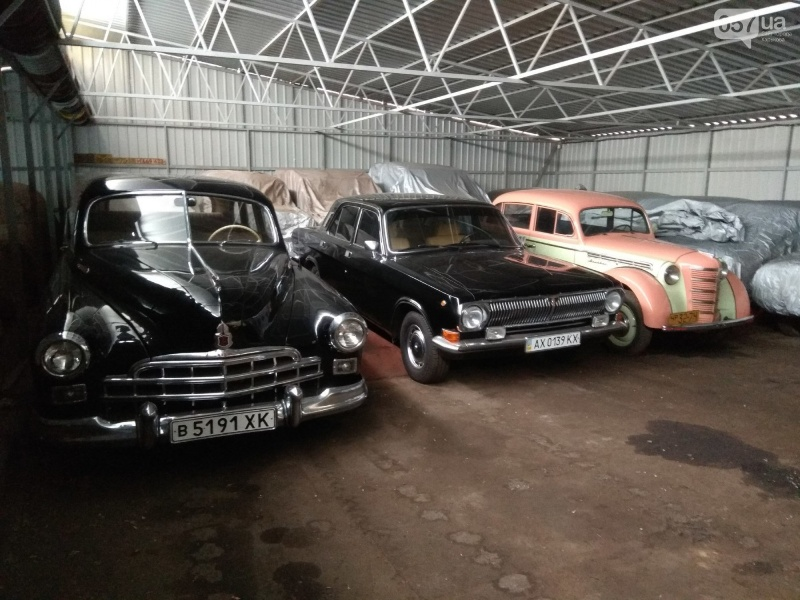car: (41, 173, 367, 447), (293, 194, 625, 382), (492, 189, 753, 353)
plate: (174, 411, 273, 440), (530, 330, 580, 353)
